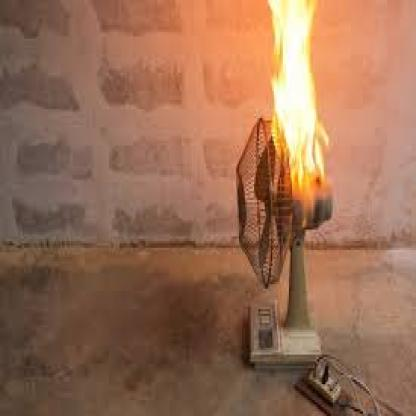fire: (261, 0, 329, 188)
